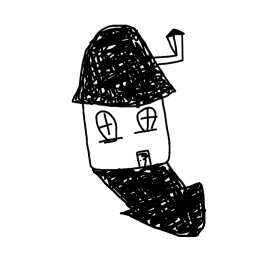chimney: (154, 25, 191, 67)
closed_window: (93, 106, 120, 146), (131, 104, 164, 136)
door: (132, 145, 154, 168)
shaded_roof: (70, 19, 178, 110)
shadow: (89, 167, 211, 242)
wall: (81, 99, 173, 167)
